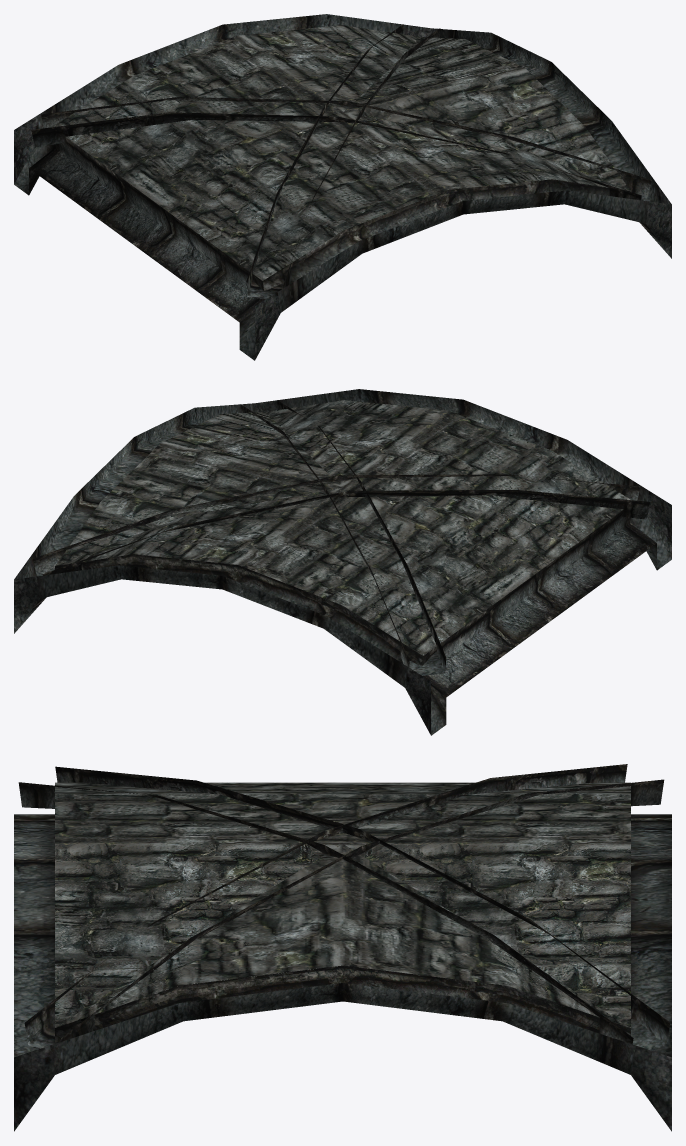
The model's file is corridor02_3way.dae.
The picture shows the model from 3 angles, top to bottom: view 1: azimuth 30°, elevation 25°; view 2: azimuth 150°, elevation 25°; view 3: azimuth 270°, elevation 25°; orthographic projection. The views are drawn at different scales.
Parts seen in each view (by area): view 1: polySurface165, polySurface164, polySurface166, polySurface167; view 2: polySurface165, polySurface164, polySurface167, polySurface166; view 3: polySurface165, polySurface164, polySurface167, polySurface166.
Boxes of the visible parts, x1,y1,x2,y2 form: polySurface165: [52, 25, 630, 280]; polySurface164: [14, 14, 671, 360]; polySurface166: [31, 97, 651, 200]; polySurface167: [246, 24, 440, 298]; polySurface165: [55, 400, 630, 655]; polySurface164: [14, 389, 671, 735]; polySurface167: [33, 474, 649, 576]; polySurface166: [240, 400, 446, 675]; polySurface165: [55, 782, 630, 1027]; polySurface164: [14, 814, 671, 1131]; polySurface167: [18, 766, 670, 1050]; polySurface166: [24, 764, 664, 1049].
Size of the model in its own units: 4 by 1.04 by 4.
